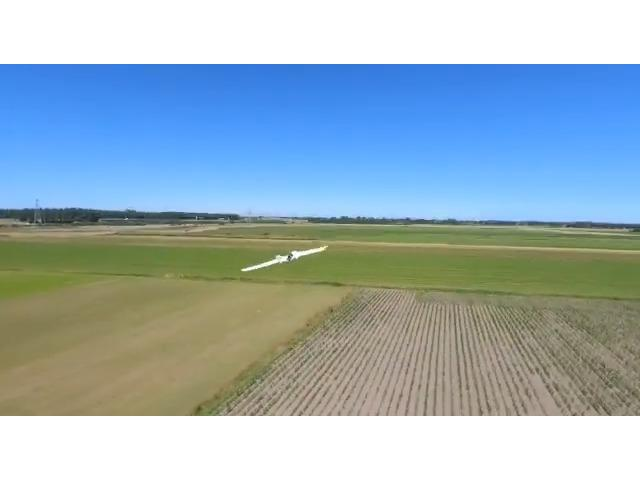Anti-Drone: (234, 224, 340, 286)
